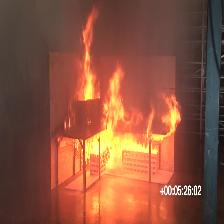fire: (74, 66, 181, 170), (79, 5, 100, 100)
